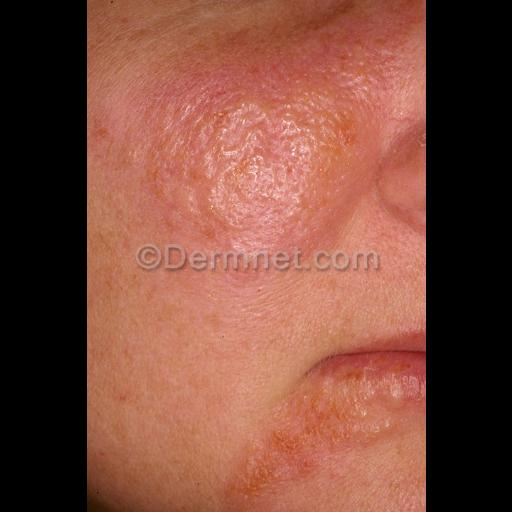Skin_Lesion: (144, 69, 368, 261), (217, 401, 395, 501)
